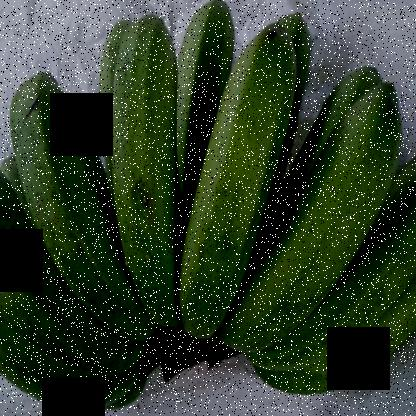unripe: (241, 84, 405, 343), (175, 14, 305, 333), (14, 68, 125, 354), (120, 11, 192, 348)
